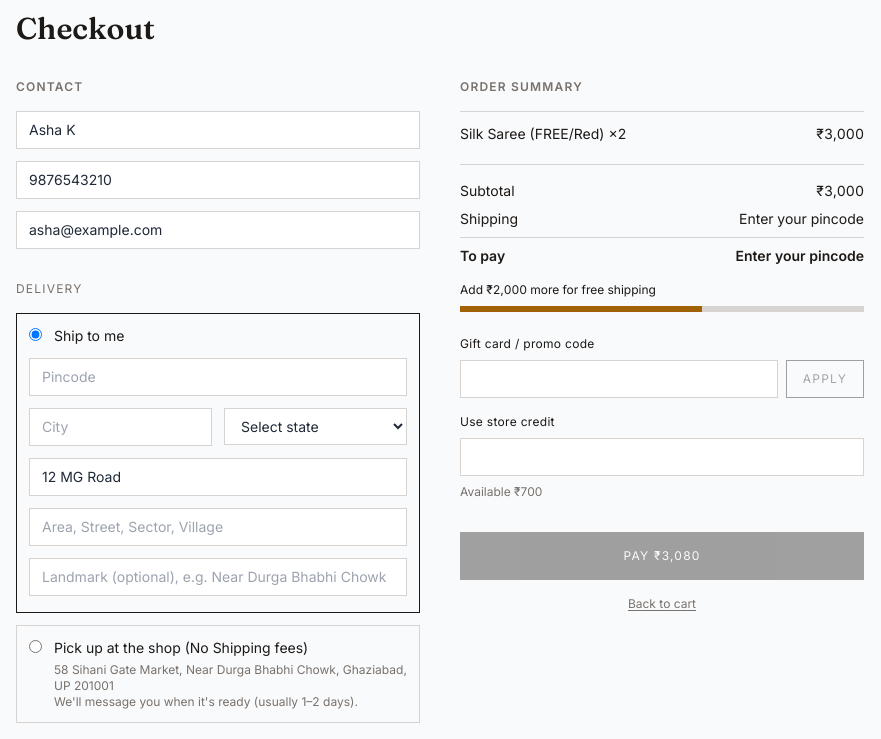
Test: caps store credit at the available balance for a signed-in shopper
expect the 1st field showing "Asha K" is shown: met, box [16,111,420,149]
expect the 3rd field showing "asha@example.com" is shown: met, box [16,211,420,249]
In the number field labelled "Use store credit": (662, 457) [460,438,864,476], type "900"
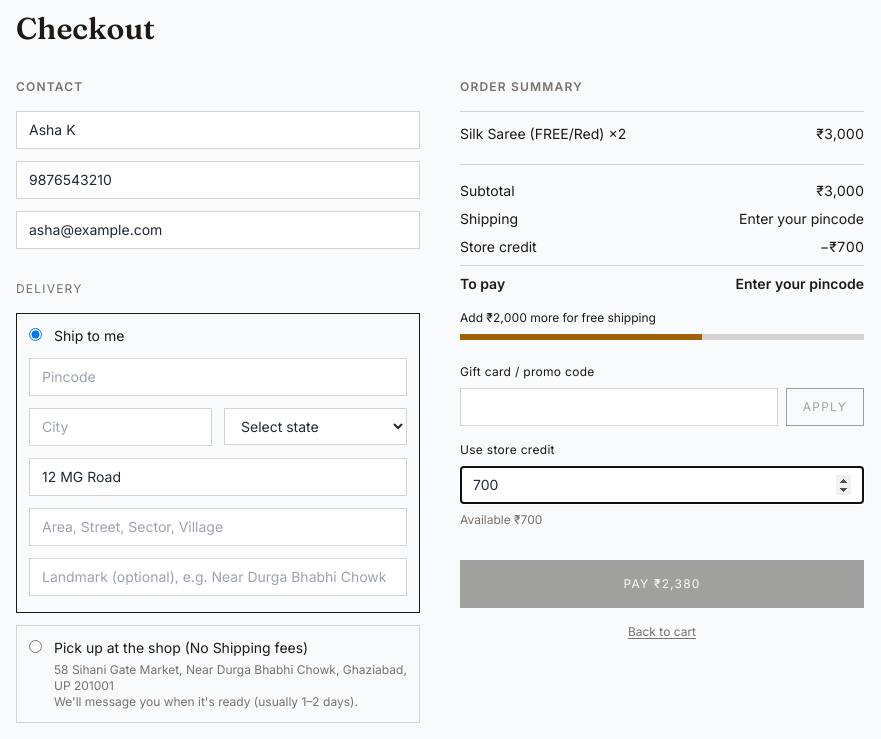
expect the number field labelled "Use store credit" holds "700": met, box [460,466,864,504]
expect the text with test id "quote-credit" reads "−₹700": met, box [820,238,864,255]
